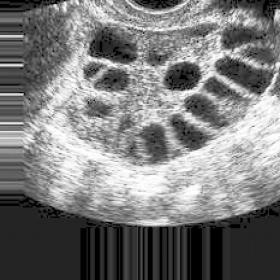-: (247, 45, 278, 67), (225, 28, 264, 42)
PCOS: (188, 93, 221, 129), (97, 34, 137, 60), (224, 59, 264, 84), (164, 62, 202, 88), (206, 77, 245, 101), (142, 127, 167, 160), (175, 115, 196, 147), (102, 68, 127, 91), (91, 98, 112, 118), (88, 57, 104, 76), (152, 52, 172, 65)
